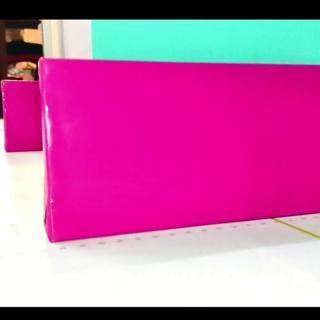xparking: (52, 66, 320, 256), (2, 88, 40, 153)
